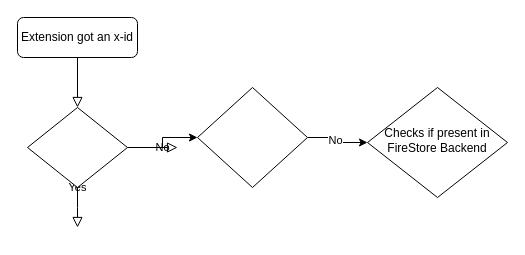
Image size: 525x255. Some labels were removed from this diagram. Here are the shapes that lost their labels. From the top down, the centre of each, then its label:
At (77,147): "Checks if present in memory".
At (252,137): "Checks if present in Local Storage".
